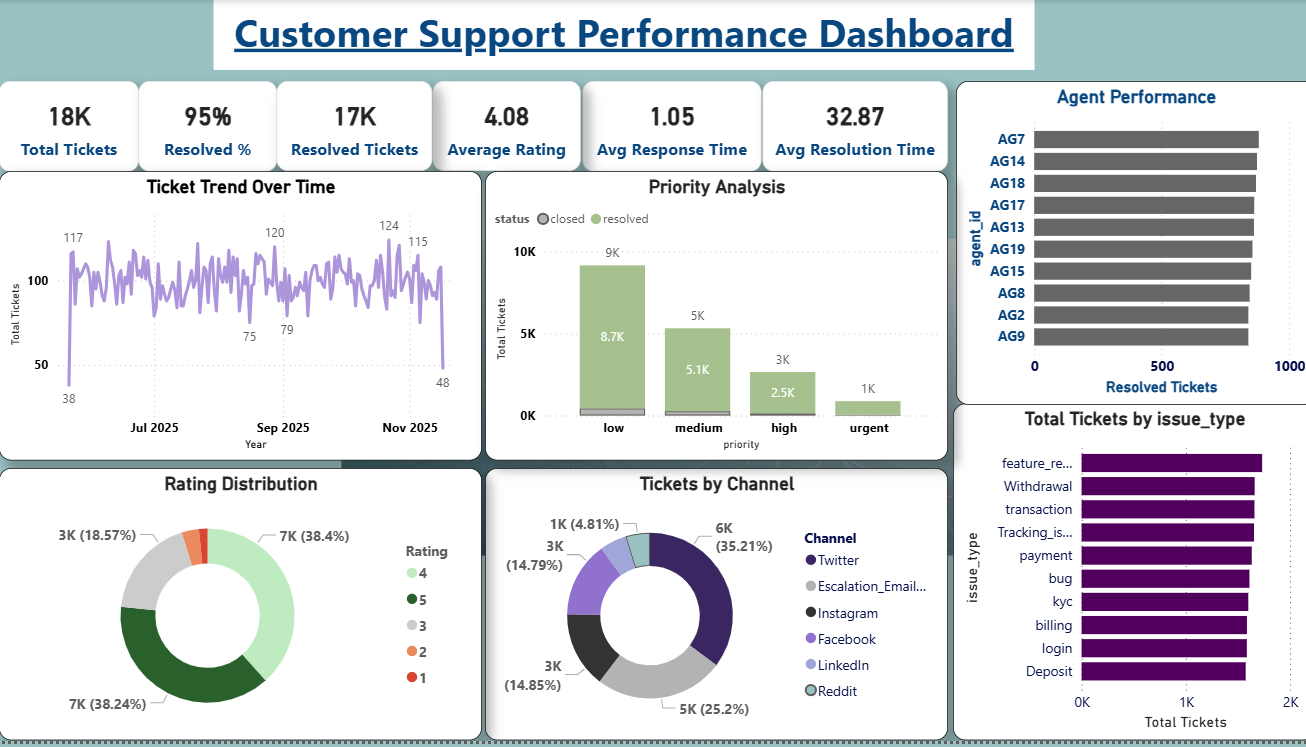

What the dashboard file says about the page in this screenshot:
{"tool":"powerbi","page":{"name":"Page 1","canvas":[1280,720],"ordinal":0},"visuals":[{"type":"card","fields":{"Values":["customer_support_tickets_ready.Total Tickets"]},"box":[0,78.7,136.3,87.8],"z":0},{"type":"card","fields":{"Values":["customer_support_tickets_ready.Resolved %"]},"box":[136.3,78.7,134.8,87.8],"z":1000},{"type":"card","fields":{"Values":["customer_support_tickets_ready.Avg Response Time"]},"box":[567.8,78.7,174.1,87.8],"z":2000},{"type":"card","fields":{"Values":["customer_support_tickets_ready.Avg Resolution Time"]},"box":[742,78.7,180.2,87.8],"z":3000},{"type":"card","fields":{"Values":["customer_support_tickets_ready.Average Rating"]},"box":[421.3,78.7,144.3,87.5],"z":4000},{"type":"card","fields":{"Values":["customer_support_tickets_ready.Resolved Tickets"]},"box":[269.7,78.7,151.6,87.5],"z":5000},{"type":"lineChart","title":"Ticket Trend Over Time","fields":{"Category":["customer_support_tickets_ready.created_date.Variation.Date Hierarchy.Year","customer_support_tickets_ready.created_date.Variation.Date Hierarchy.Quarter","customer_support_tickets_ready.created_date.Variation.Date Hierarchy.Month","customer_support_tickets_ready.created_date.Variation.Date Hierarchy.Day"],"Y":["customer_support_tickets_ready.Total Tickets"]},"box":[0,166.6,469.4,281.6],"z":6000},{"type":"donutChart","title":"Tickets by Channel","fields":{"Category":["customer_support_tickets_ready.channel"],"Y":["customer_support_tickets_ready.Total Tickets"]},"box":[472.4,454.3,449.7,265],"z":7000},{"type":"barChart","fields":{"Category":["customer_support_tickets_ready.issue_type"],"Y":["customer_support_tickets_ready.Total Tickets"]},"box":[927.5,392.5,352.5,327.5],"z":8000},{"type":"clusteredBarChart","title":"Agent Performance","fields":{"Category":["customer_support_tickets_ready.agent_id"],"Y":["customer_support_tickets_ready.Resolved Tickets"]},"box":[929.7,78.7,349.8,315],"z":9000},{"type":"donutChart","title":"Rating Distribution","fields":{"Category":["customer_support_tickets_ready.rating"],"Y":["customer_support_tickets_ready.Total Tickets"]},"box":[0,454.3,469.4,265],"z":10000},{"type":"columnChart","title":"Priority Analysis","fields":{"Category":["customer_support_tickets_ready.priority"],"Y":["customer_support_tickets_ready.Total Tickets"],"Series":["customer_support_tickets_ready.status"]},"box":[472.4,166.6,449.7,281.6],"z":11000},{"type":"textbox","box":[209,0,798,68.1],"z":12000}]}

Visuals, with their boxes in screenshot pixels (x1, y1, x2, y2), scaled from the page's 1280x720 canvas onto the 1306x747 screenshot:
card - customer_support_tickets_ready.Total Tickets: 0,82,139,173
card - customer_support_tickets_ready.Resolved %: 139,82,277,173
card - customer_support_tickets_ready.Avg Response Time: 579,82,757,173
card - customer_support_tickets_ready.Avg Resolution Time: 757,82,941,173
card - customer_support_tickets_ready.Average Rating: 430,82,577,172
card - customer_support_tickets_ready.Resolved Tickets: 275,82,430,172
"Ticket Trend Over Time" lineChart: 0,173,479,465
"Tickets by Channel" donutChart: 482,471,941,746
barChart - customer_support_tickets_ready.issue_type x customer_support_tickets_ready.Total Tickets: 946,407,1305,746
"Agent Performance" clusteredBarChart: 949,82,1305,408
"Rating Distribution" donutChart: 0,471,479,746
"Priority Analysis" columnChart: 482,173,941,465
textbox: 213,0,1027,71
